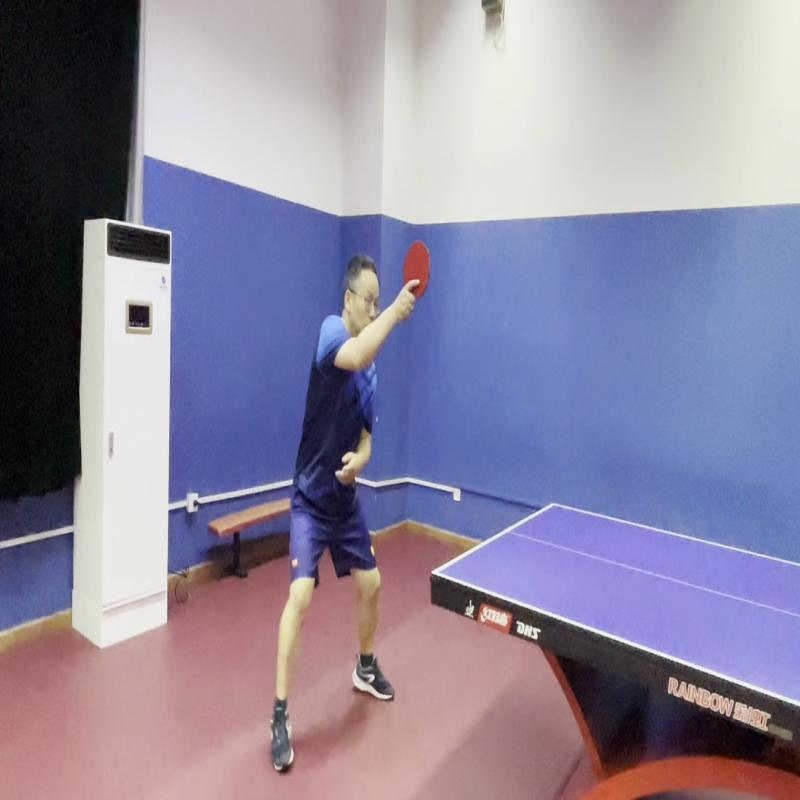bats: (395, 235, 435, 308)
